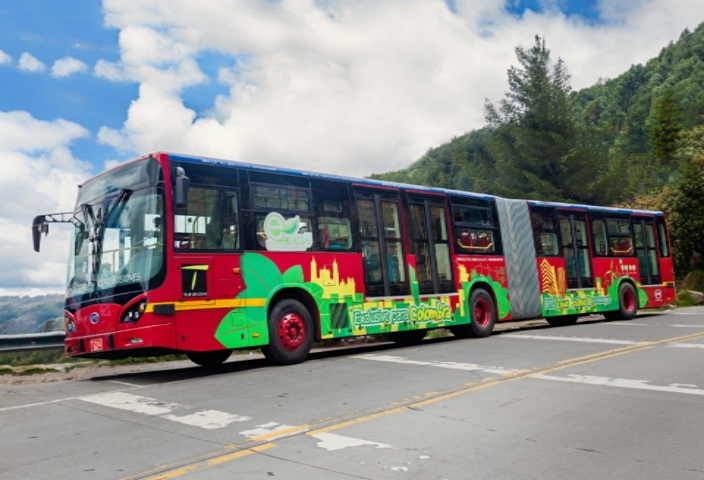bus: (30, 149, 683, 351)
